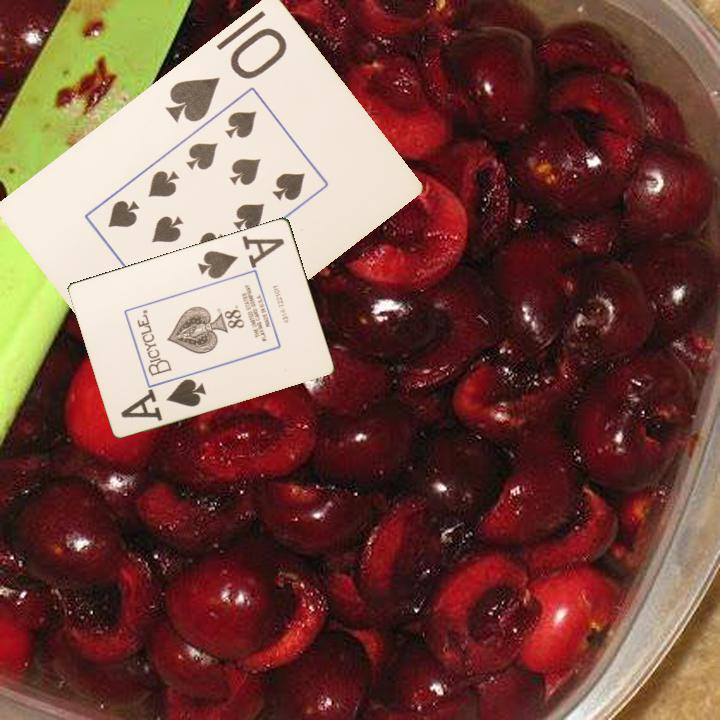10s: (161, 23, 290, 125)
As: (117, 375, 210, 424), (194, 239, 279, 282)
